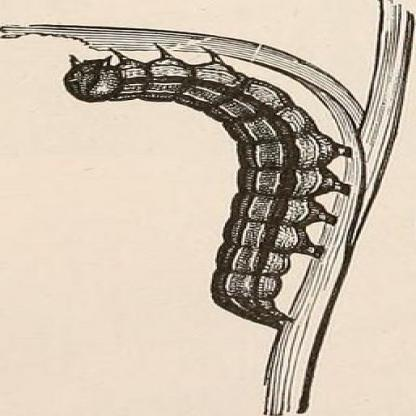armyworm: (57, 37, 338, 337)
